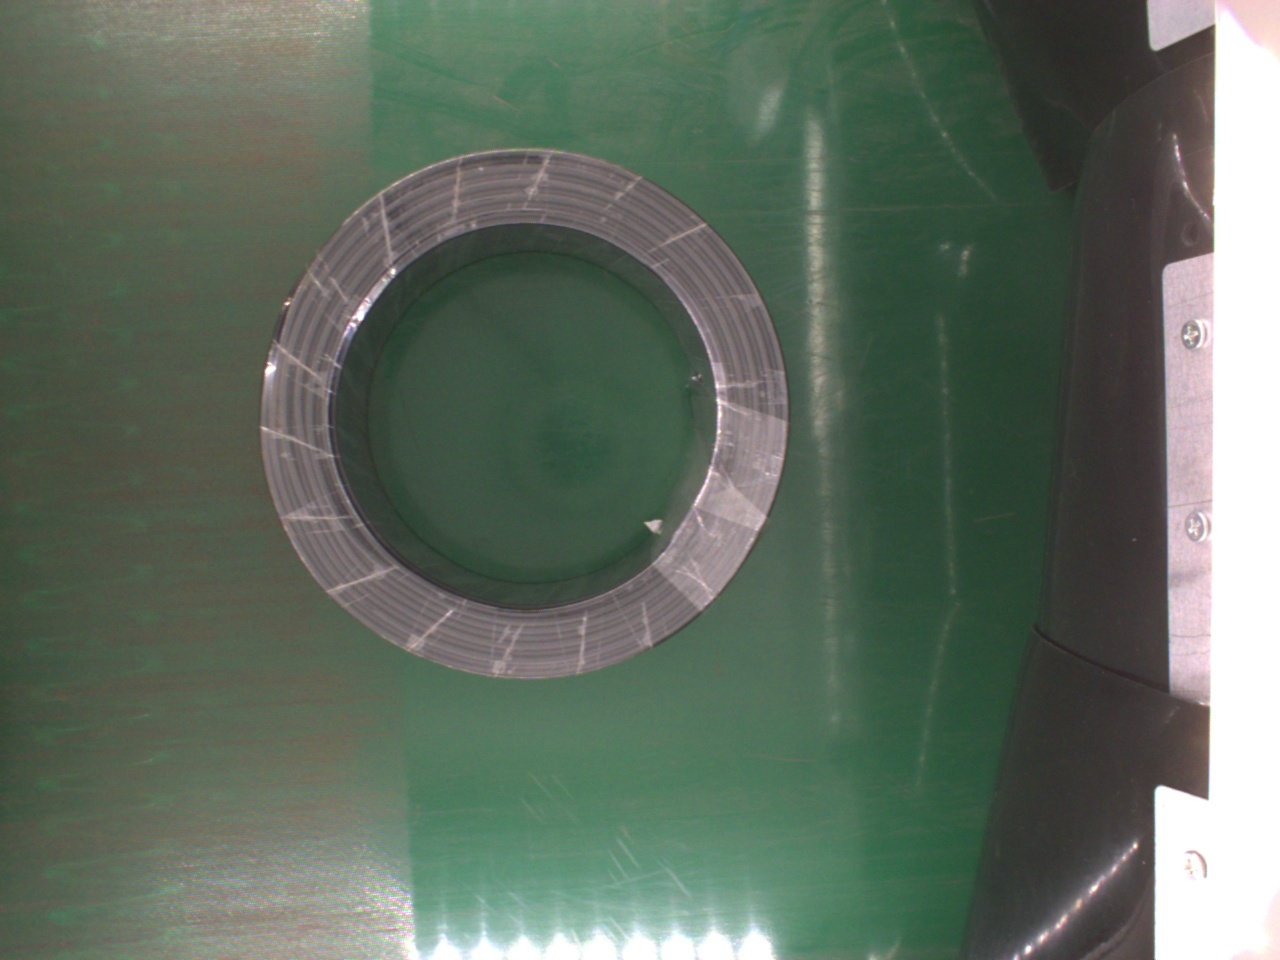black: (259, 154, 794, 680)
